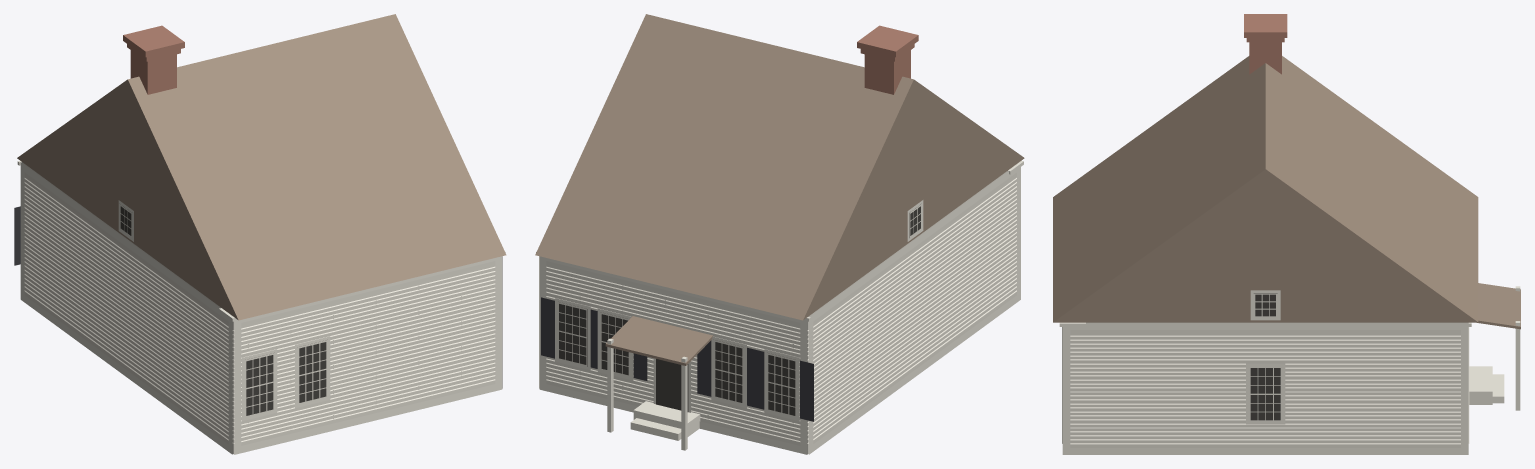
Rendered from recon_1835_blk_school_section_tier_95_h1_06__inferred_1835.glb.
3 views of the same model, side by side, from view 1: azimuth 30°, elevation 25°; view 2: azimuth 150°, elevation 25°; view 3: azimuth 270°, elevation 25° (orthographic). The views are drawn at different scales.
Parts seen in each view (by area): view 1: recon_1835_blk_school_section_tier_95_h1_06__inferred_1835; view 2: recon_1835_blk_school_section_tier_95_h1_06__inferred_1835; view 3: recon_1835_blk_school_section_tier_95_h1_06__inferred_1835.
Boxes of the visible parts, x1,y1,x2,y2 form: recon_1835_blk_school_section_tier_95_h1_06__inferred_1835: (14, 14, 506, 454); recon_1835_blk_school_section_tier_95_h1_06__inferred_1835: (535, 14, 1024, 454); recon_1835_blk_school_section_tier_95_h1_06__inferred_1835: (1053, 14, 1520, 454).
Size of the model in its own units: 7.93 by 9.08 by 12.1.
